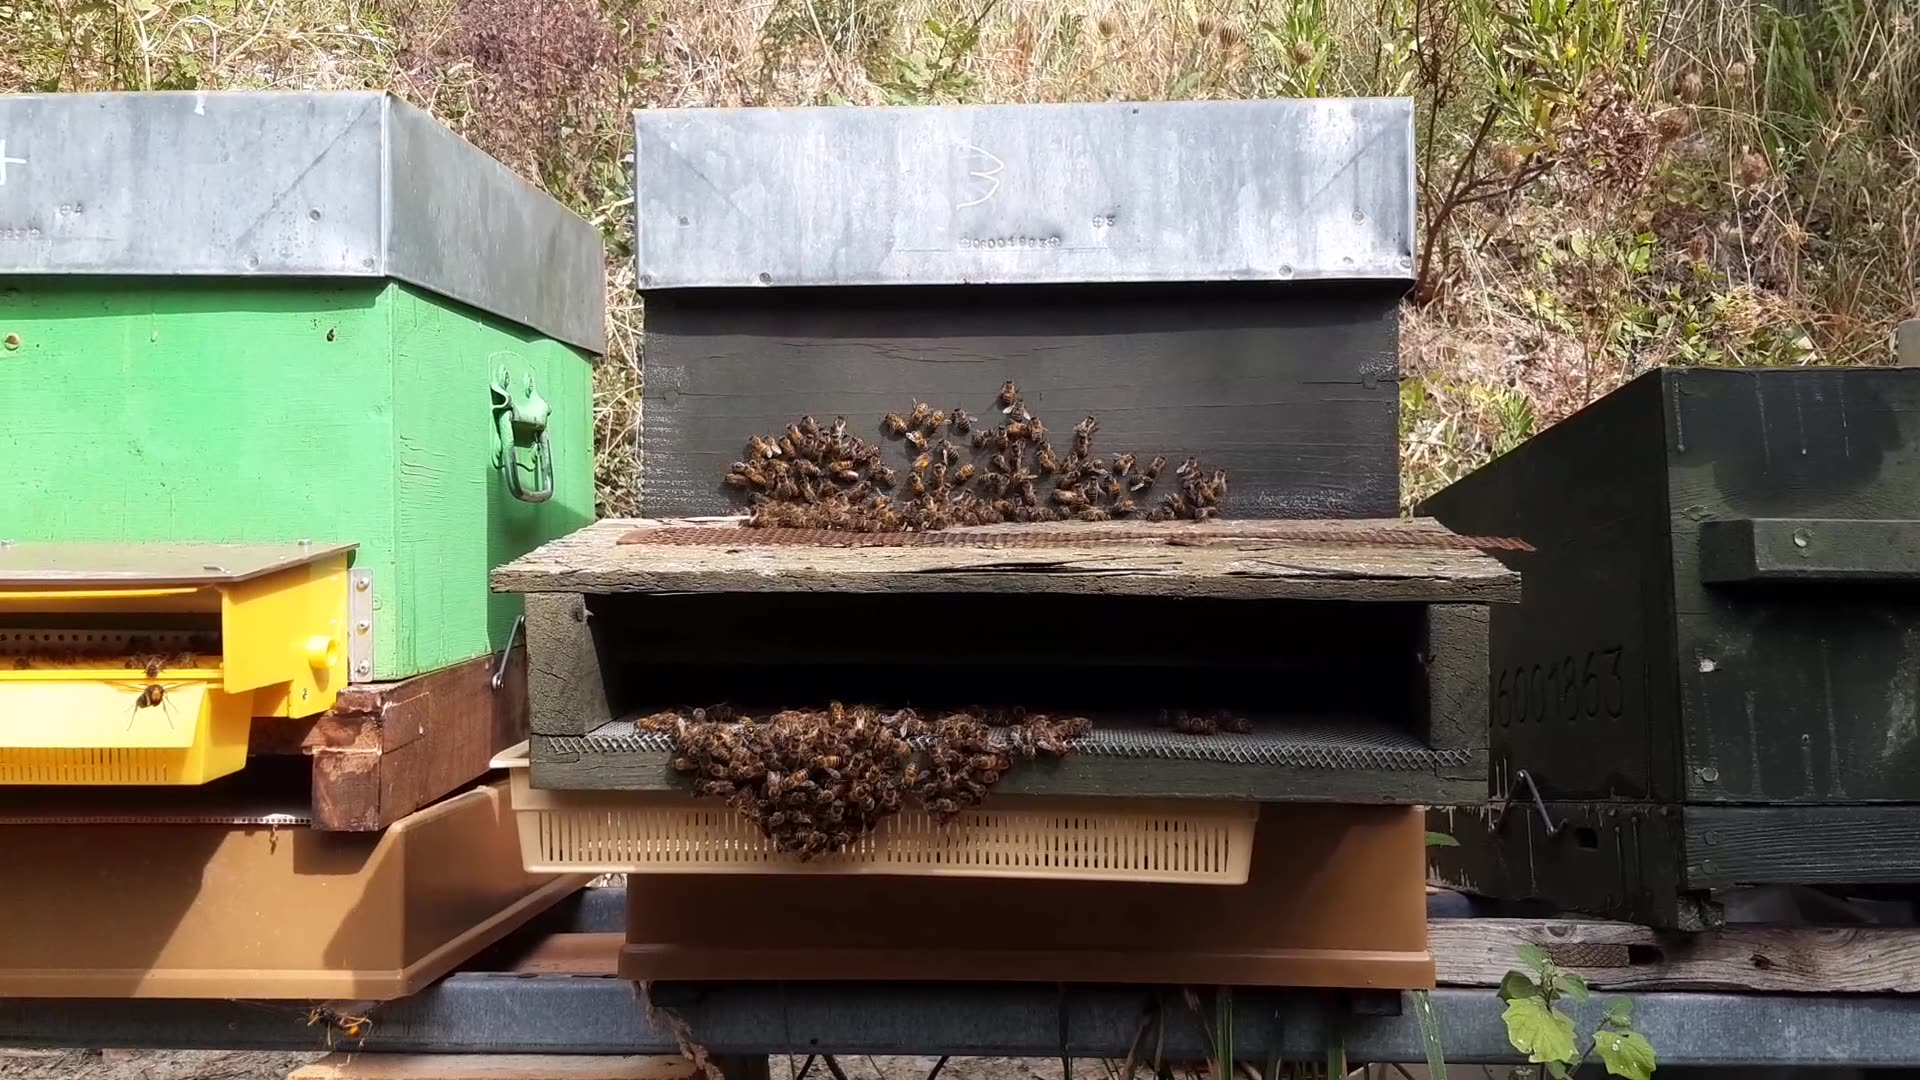bee: (753, 785, 831, 862), (936, 473, 1007, 549), (1134, 458, 1217, 516), (1021, 463, 1092, 525), (655, 731, 727, 793), (823, 684, 913, 731), (835, 473, 907, 526), (731, 465, 810, 513), (934, 393, 1004, 436), (855, 415, 924, 456), (1019, 419, 1069, 472), (608, 361, 663, 398)
